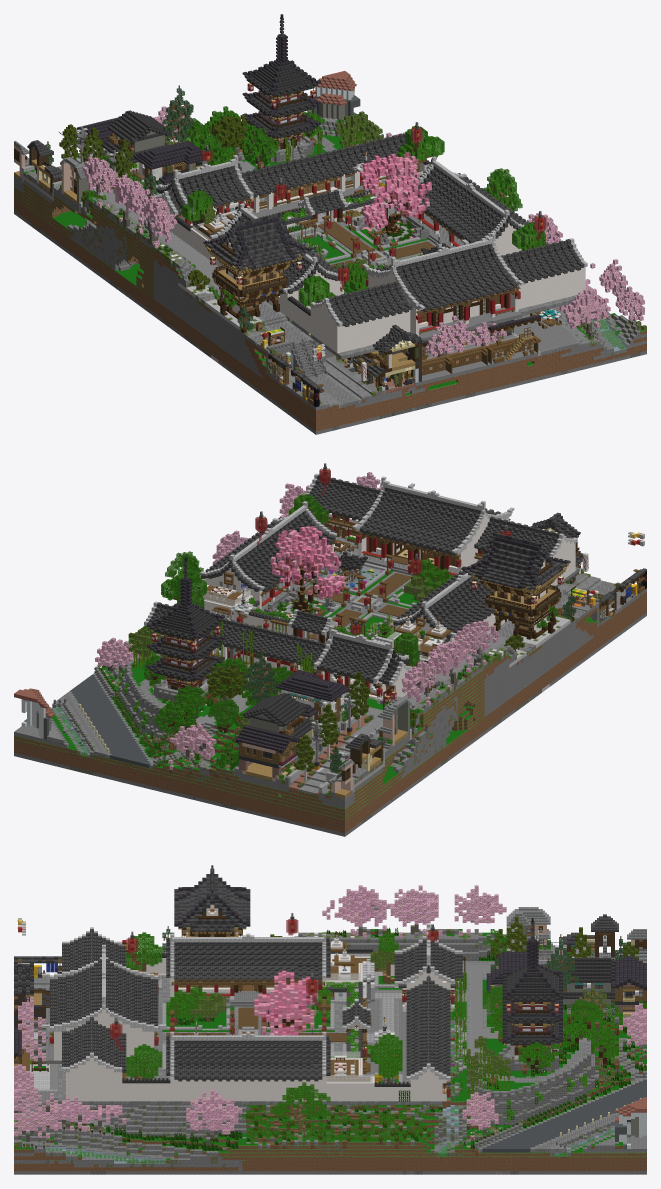
File: demo6.glb
3 renders of one model, top to bottom at view 1: azimuth 30°, elevation 25°; view 2: azimuth 150°, elevation 25°; view 3: azimuth 270°, elevation 25°, orthographic. The views are drawn at different scales.
Parts seen in each view (by area): view 1: minecraft_block-deepslate_bricks, minecraft_block-stone, minecraft_block-dirt, minecraft_block-quartz_block_bottom, minecraft_block-cherry_leaves, minecraft_block-deepslate_tiles, minecraft_block-diorite, minecraft_block-oak_leaves, minecraft_block-polished_blackstone, minecraft_block-grass_block_side, minecraft_block-spruce_planks, minecraft_block-stone_bricks (+27 smaller); view 2: minecraft_block-deepslate_bricks, minecraft_block-stone, minecraft_block-grass_block_side, minecraft_block-dirt, minecraft_block-deepslate_tiles, minecraft_block-cherry_leaves, minecraft_block-diorite, minecraft_block-oak_leaves, minecraft_block-quartz_block_bottom, minecraft_block-polished_blackstone, minecraft_block-spruce_planks, minecraft_block-cobblestone (+36 smaller); view 3: minecraft_block-deepslate_bricks, minecraft_block-cherry_leaves, minecraft_block-quartz_block_bottom, minecraft_block-cobblestone, minecraft_block-stone, minecraft_block-grass_block_side, minecraft_block-deepslate_tiles, minecraft_block-grass_block_top, minecraft_block-diorite, minecraft_block-oak_leaves, minecraft_block-dirt, minecraft_block-acacia_leaves (+41 smaller).
Boxes of the visible parts, x1,y1,x2,y2 form: minecraft_block-deepslate_bricks: [157, 133, 584, 339]; minecraft_block-stone: [14, 138, 646, 434]; minecraft_block-dirt: [14, 200, 646, 431]; minecraft_block-quartz_block_bottom: [139, 161, 585, 384]; minecraft_block-cherry_leaves: [82, 106, 644, 356]; minecraft_block-deepslate_tiles: [101, 61, 546, 380]; minecraft_block-diorite: [68, 128, 587, 369]; minecraft_block-oak_leaves: [60, 106, 545, 307]; minecraft_block-polished_blackstone: [77, 34, 540, 390]; minecraft_block-grass_block_side: [14, 173, 646, 398]; minecraft_block-spruce_planks: [74, 85, 554, 405]; minecraft_block-stone_bricks: [19, 122, 541, 407]; minecraft_block-deepslate_bricks: [147, 474, 573, 688]; minecraft_block-stone: [14, 536, 646, 836]; minecraft_block-grass_block_side: [14, 537, 614, 822]; minecraft_block-dirt: [14, 592, 646, 833]; minecraft_block-deepslate_tiles: [150, 514, 633, 737]; minecraft_block-cherry_leaves: [95, 472, 510, 770]; minecraft_block-diorite: [144, 473, 644, 781]; minecraft_block-oak_leaves: [144, 493, 557, 779]; minecraft_block-quartz_block_bottom: [159, 505, 631, 719]; minecraft_block-polished_blackstone: [146, 536, 625, 753]; minecraft_block-spruce_planks: [170, 514, 644, 755]; minecraft_block-cobblestone: [50, 590, 599, 801]; minecraft_block-deepslate_bricks: [15, 929, 462, 1081]; minecraft_block-cherry_leaves: [14, 885, 646, 1147]; minecraft_block-quartz_block_bottom: [22, 904, 462, 1101]; minecraft_block-cobblestone: [14, 929, 646, 1167]; minecraft_block-stone: [14, 920, 646, 1174]; minecraft_block-grass_block_side: [14, 930, 646, 1167]; minecraft_block-deepslate_tiles: [14, 865, 614, 1086]; minecraft_block-grass_block_top: [14, 929, 646, 1163]; minecraft_block-diorite: [18, 918, 634, 1089]; minecraft_block-oak_leaves: [126, 932, 646, 1079]; minecraft_block-dirt: [14, 1030, 646, 1170]; minecraft_block-acacia_leaves: [242, 929, 602, 1145].
Bounding box in the file's own units: 100 × 54 × 158.
Materials: 400 (398 with a texture image).
